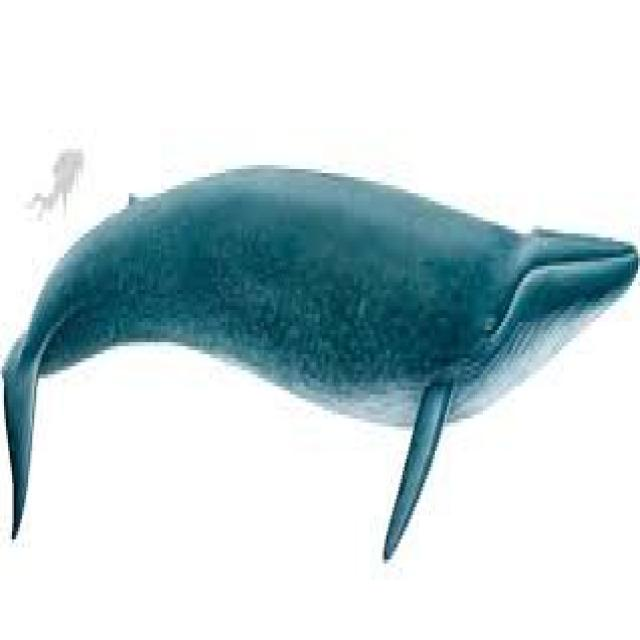whale: (2, 169, 638, 559)
